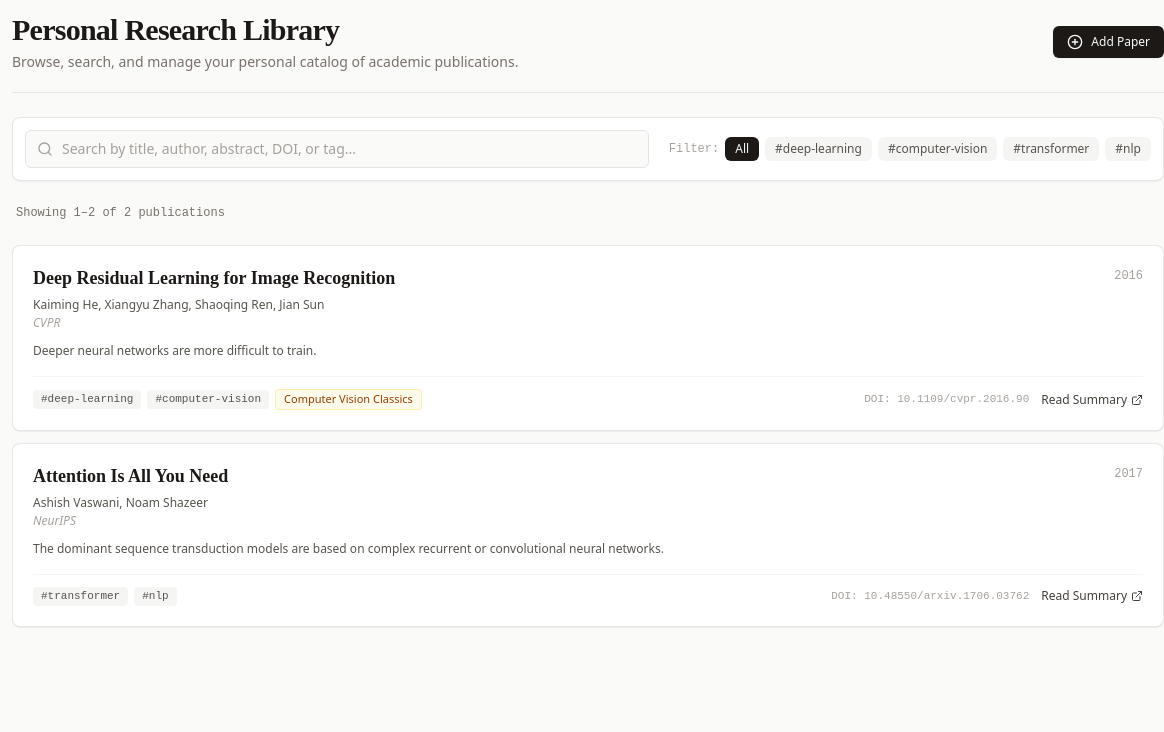
LibraryPage (Catalog & Search) › filters papers client-side when clicking a tag pill
Check: the link "Deep Residual Learning for Image Recognition" is shown, box [33,268,395,288]
# Find the #transformer tag filter button in the filter bar
Step 1. Click the button "#transformer" in the row of "Filter:" → point(1051, 149), box [1003,137,1099,161]
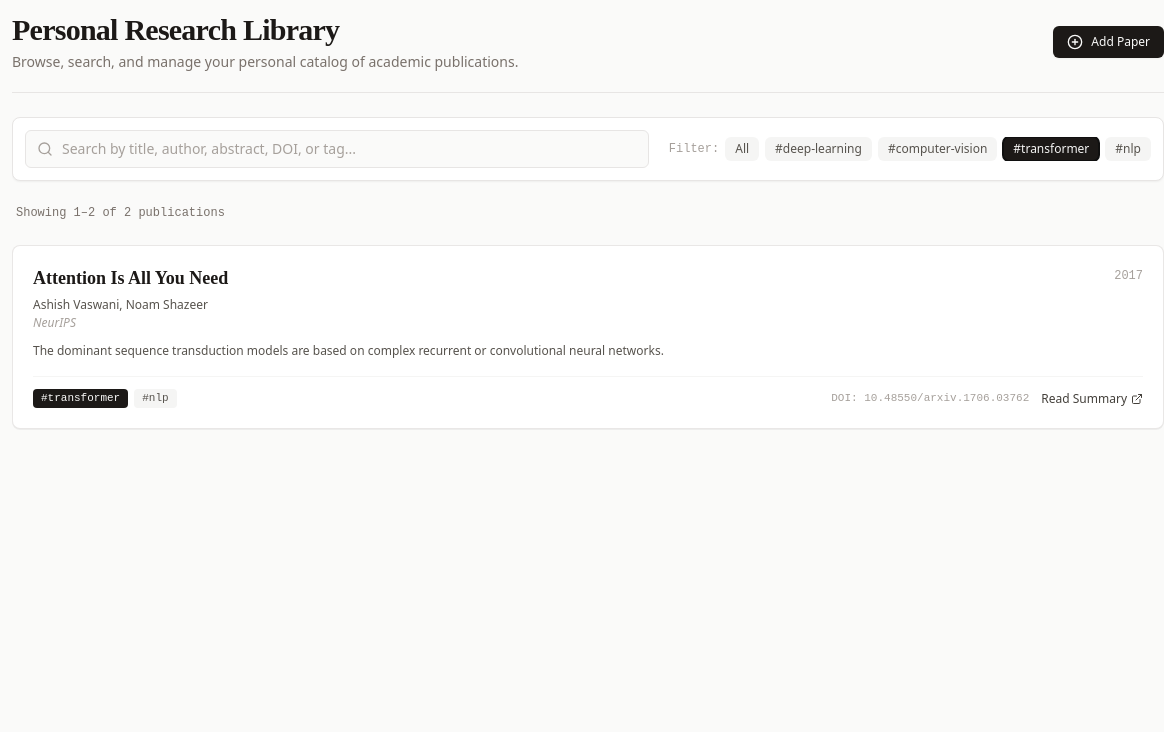
Check: the link "Attention Is All You Need" is shown, box [33,268,228,288]
Check: the link "Deep Residual Learning for Image Recognition" is gone
